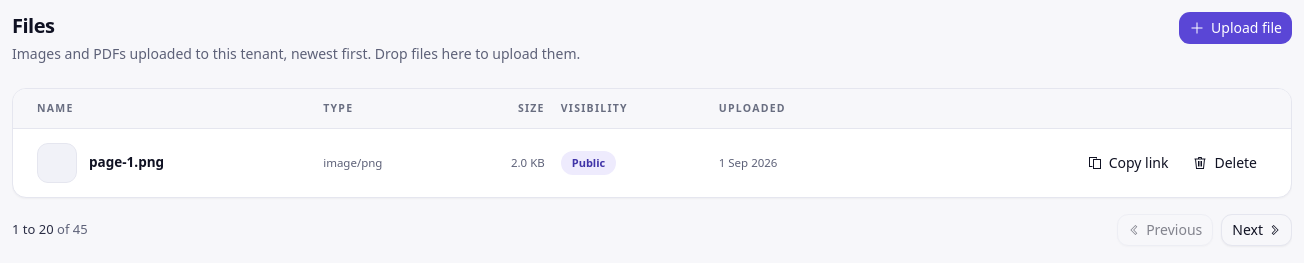
the files list › asks for twenty at a time and moves to the next page
Expected: the text "page-1.png" is shown, [89,153,164,173]
Click the button "Next" at x=1257, y=230, box [1221,214,1292,246]
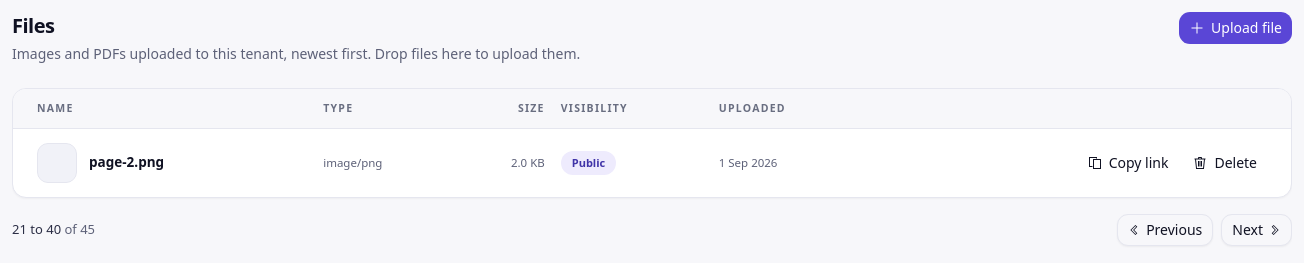
Expected: the text "page-2.png" is shown, [89,153,164,173]
